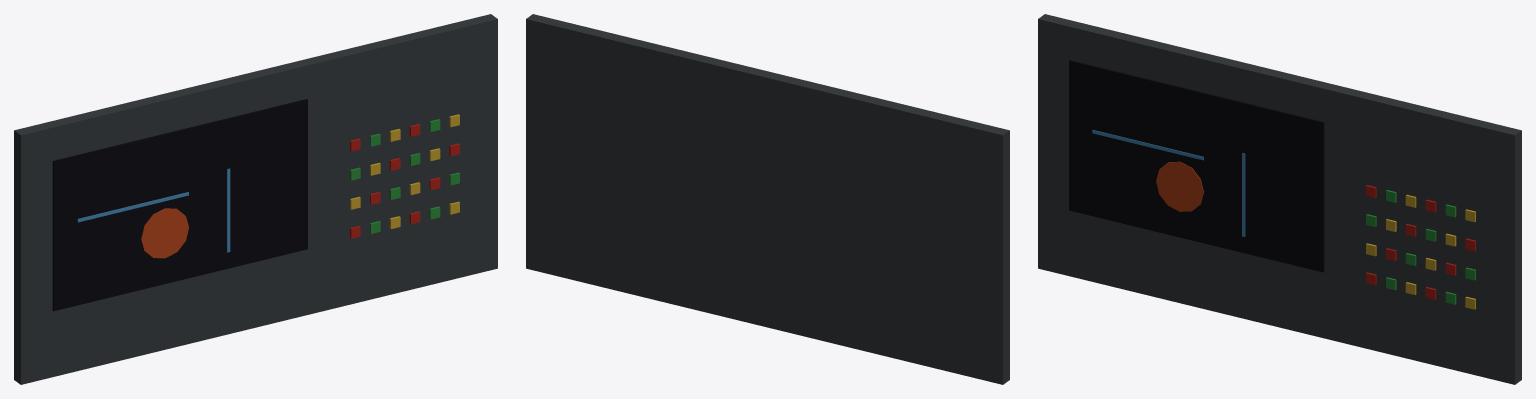
Rendered from control_wall.glb.
The picture shows the model from 3 angles, left to right: view 1: azimuth 30°, elevation 25°; view 2: azimuth 150°, elevation 25°; view 3: azimuth 330°, elevation 25°; orthographic projection.
Visible parts, largest first — view 1: control_wall; view 2: control_wall; view 3: control_wall.
Boxes of the visible parts, x1,y1,x2,y2 form: control_wall: [14, 14, 497, 384]; control_wall: [526, 14, 1009, 384]; control_wall: [1038, 14, 1521, 384].
Size of the model in its own units: 6 by 3 by 0.1775.
